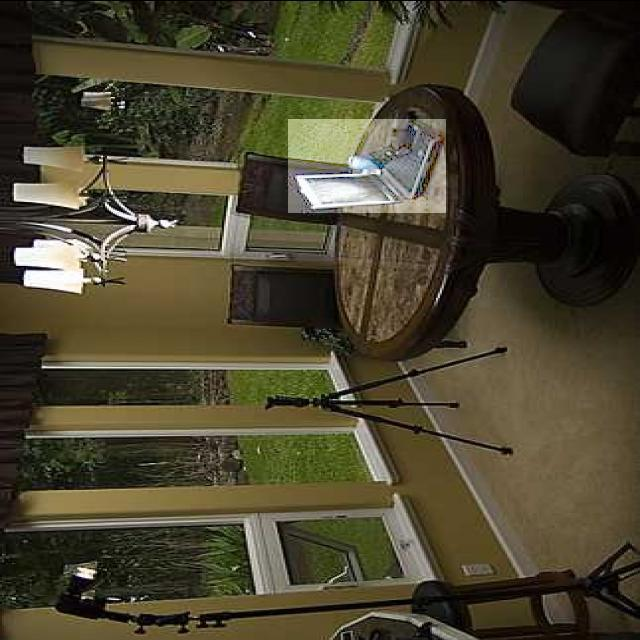-keyboard-: (288, 120, 446, 213)
